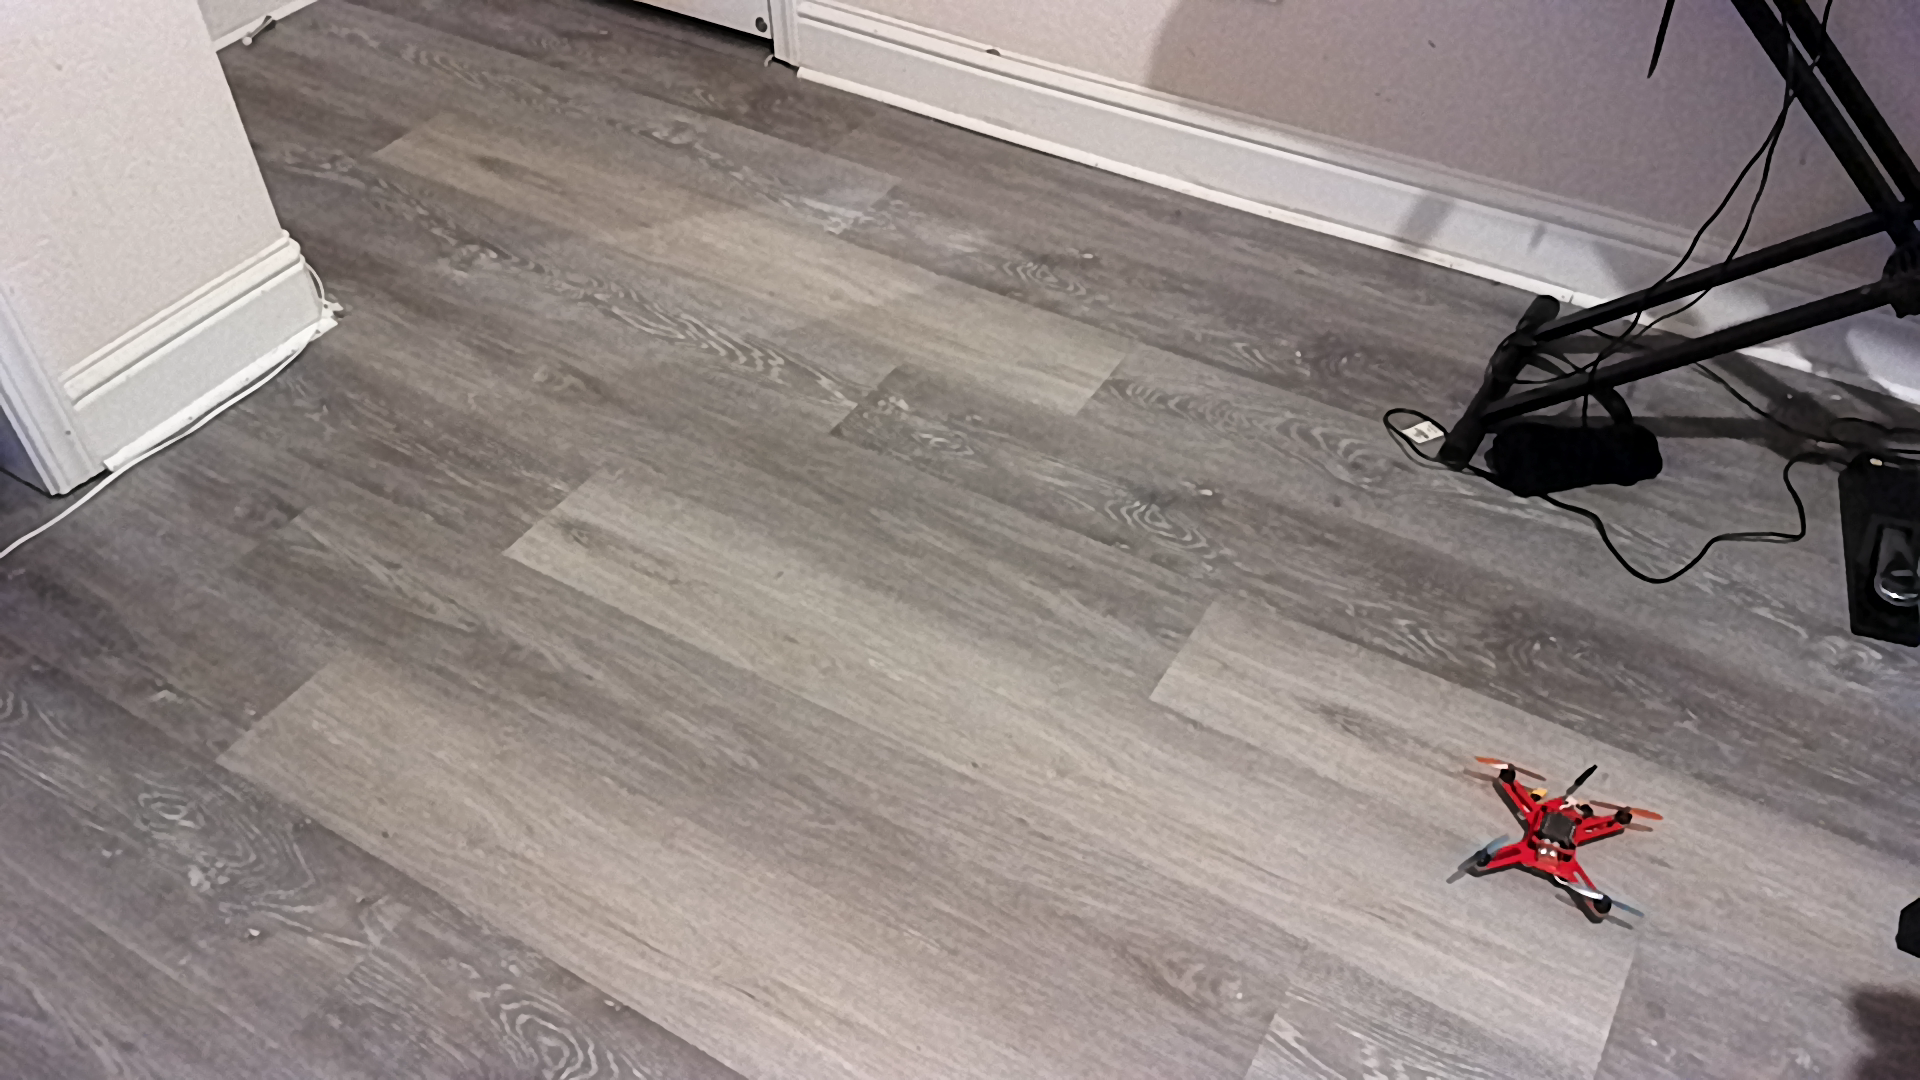drone: (1447, 742, 1676, 940)
